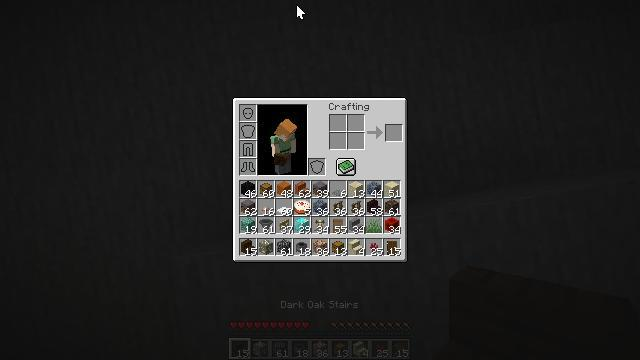cursor: (296, 4, 306, 20)
